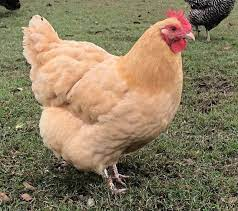buff: (140, 6, 200, 49)
